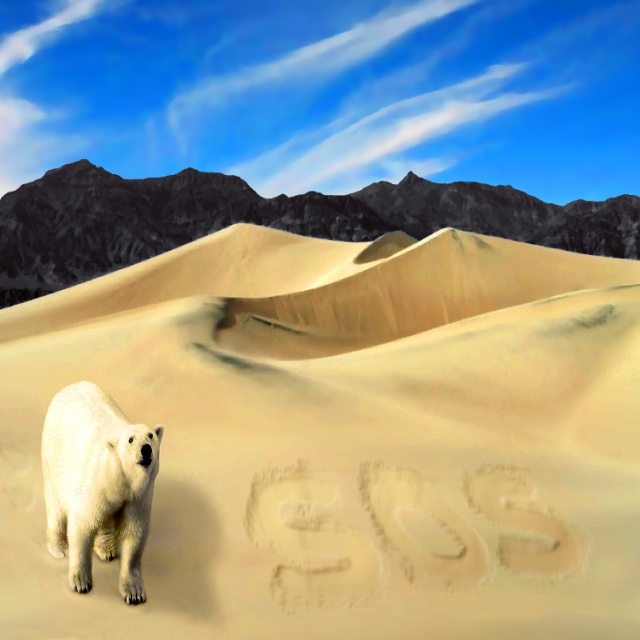Polar bear: (41, 378, 164, 612)
